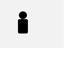human: (16, 8, 29, 34)
